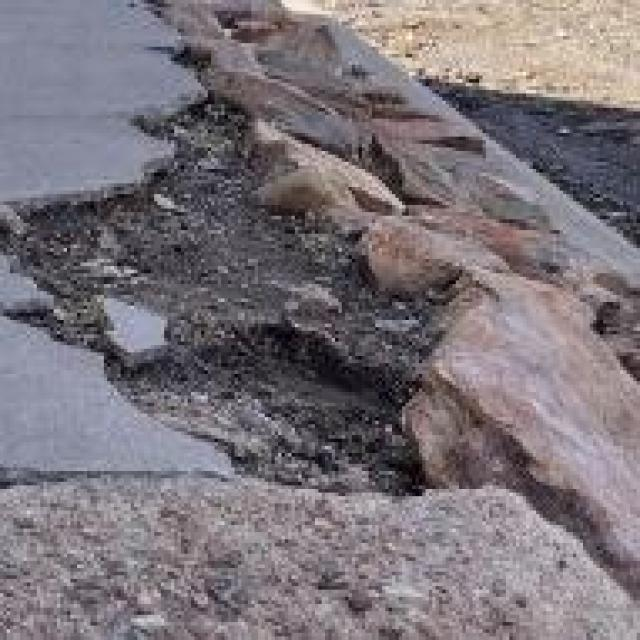hole: (12, 38, 574, 542)
